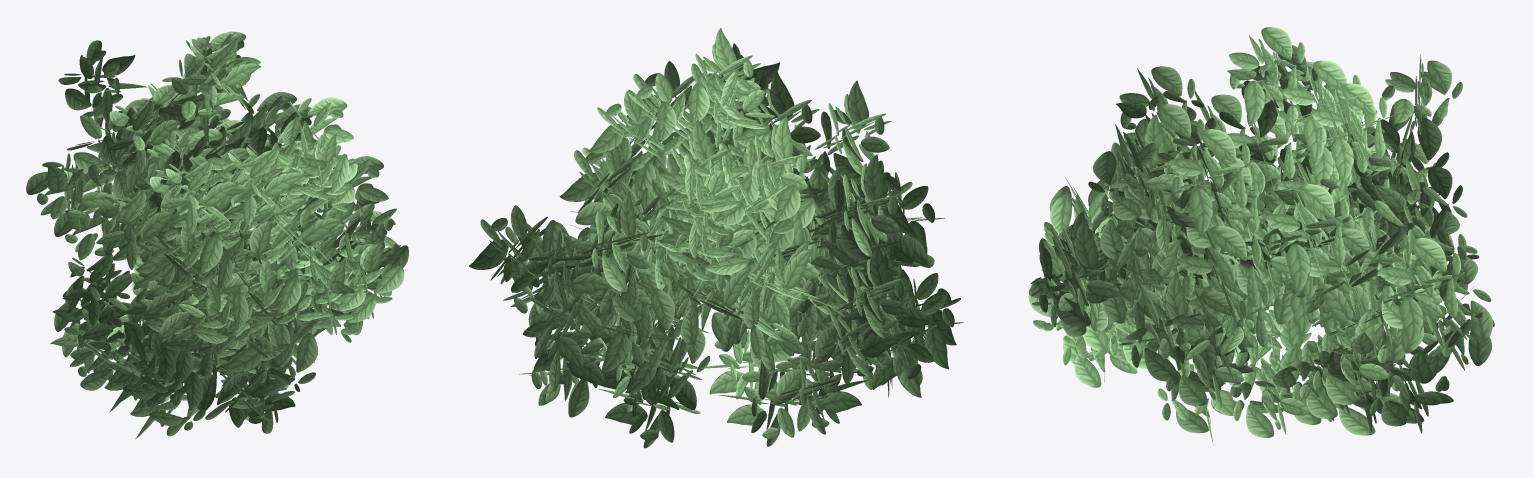
File: Bush 2.fbx
The picture shows the model from 3 angles, left to right: view 1: azimuth 30°, elevation 25°; view 2: azimuth 150°, elevation 25°; view 3: azimuth 270°, elevation 25°; orthographic projection. The views are drawn at different scales.
Visible parts, largest first — view 1: Original Leaves.060; view 2: Original Leaves.060; view 3: Original Leaves.060.
Boxes of the visible parts, <box> form: Original Leaves.060: <box>26,31,408,438</box>; Original Leaves.060: <box>469,28,963,448</box>; Original Leaves.060: <box>1028,27,1494,445</box>.
Bounding box in the file's own units: 191 × 189 × 205.
